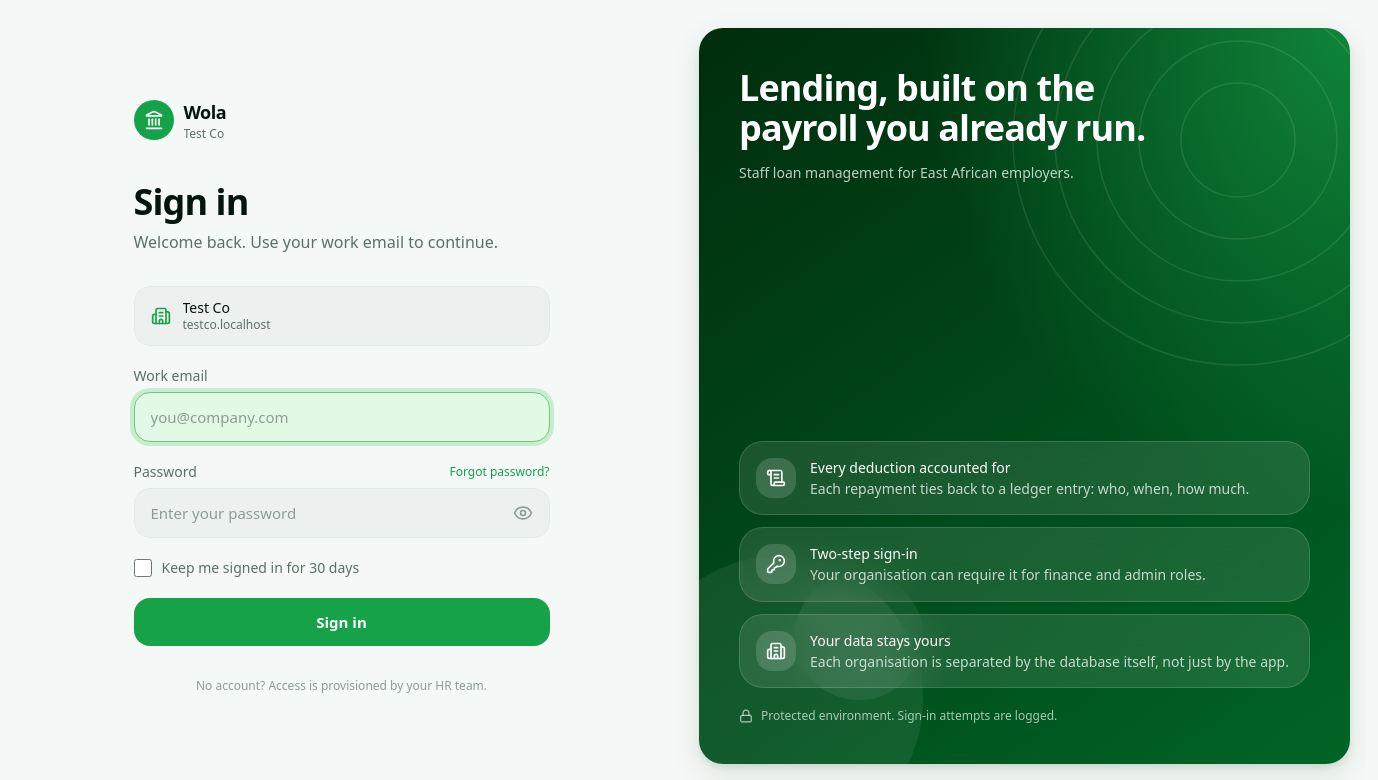
Scenario: sign-in feedback › a wrong password shows the message on the form AND pops a toast
Type "cfo@testco.io" into the field labelled "Work email" at coordinates (342, 417), box [134,393,548,441]
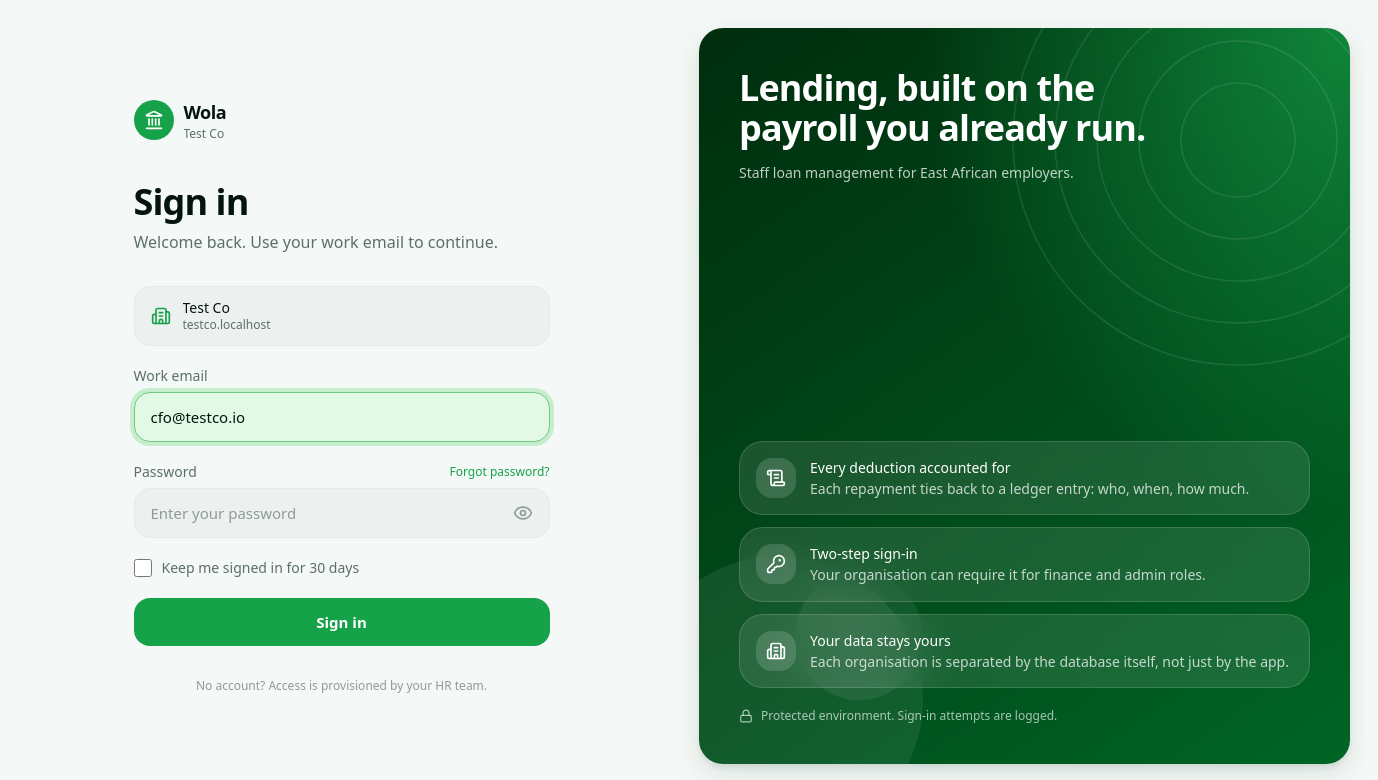
Type "secret-pass" into the password field labelled "Password" at coordinates (342, 513), box [134,489,548,537]
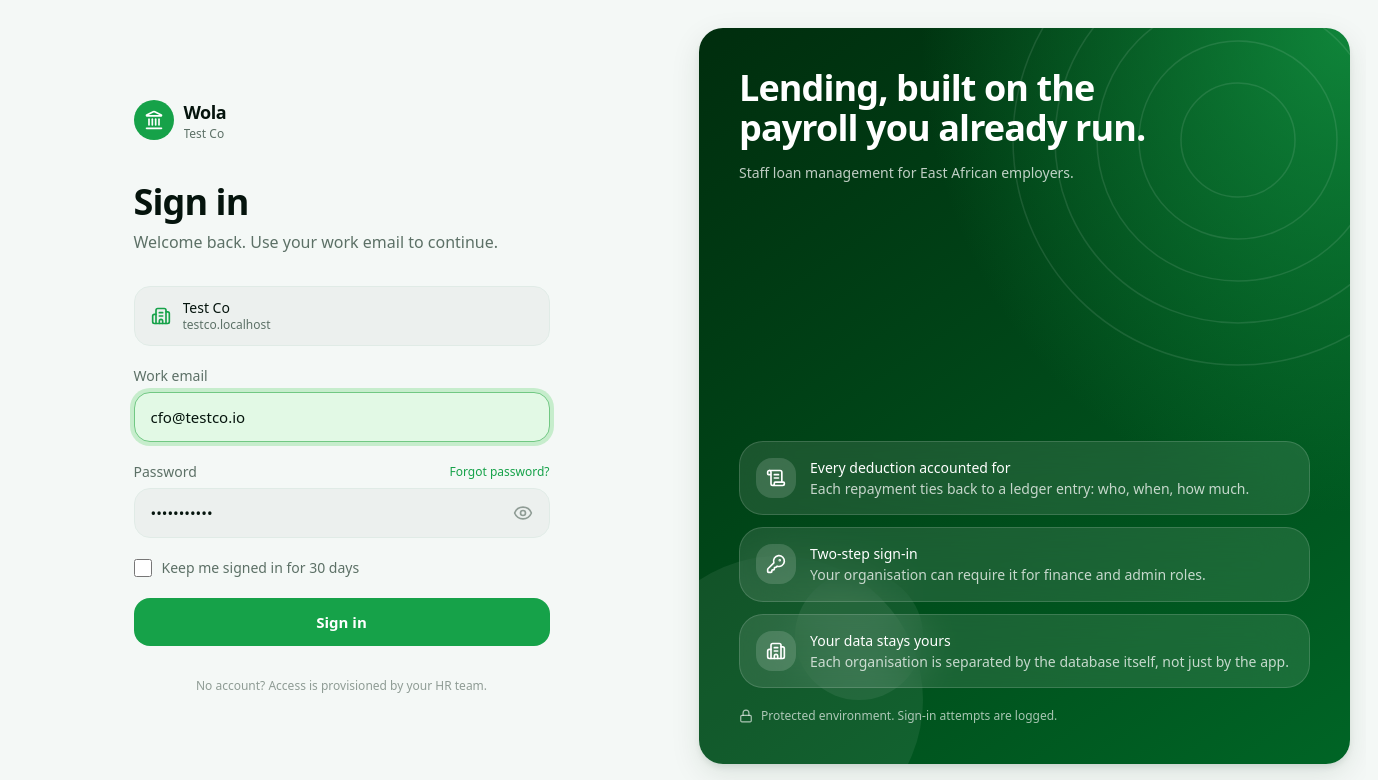
Click the button "Sign in" at coordinates (342, 622), box [134,598,550,646]
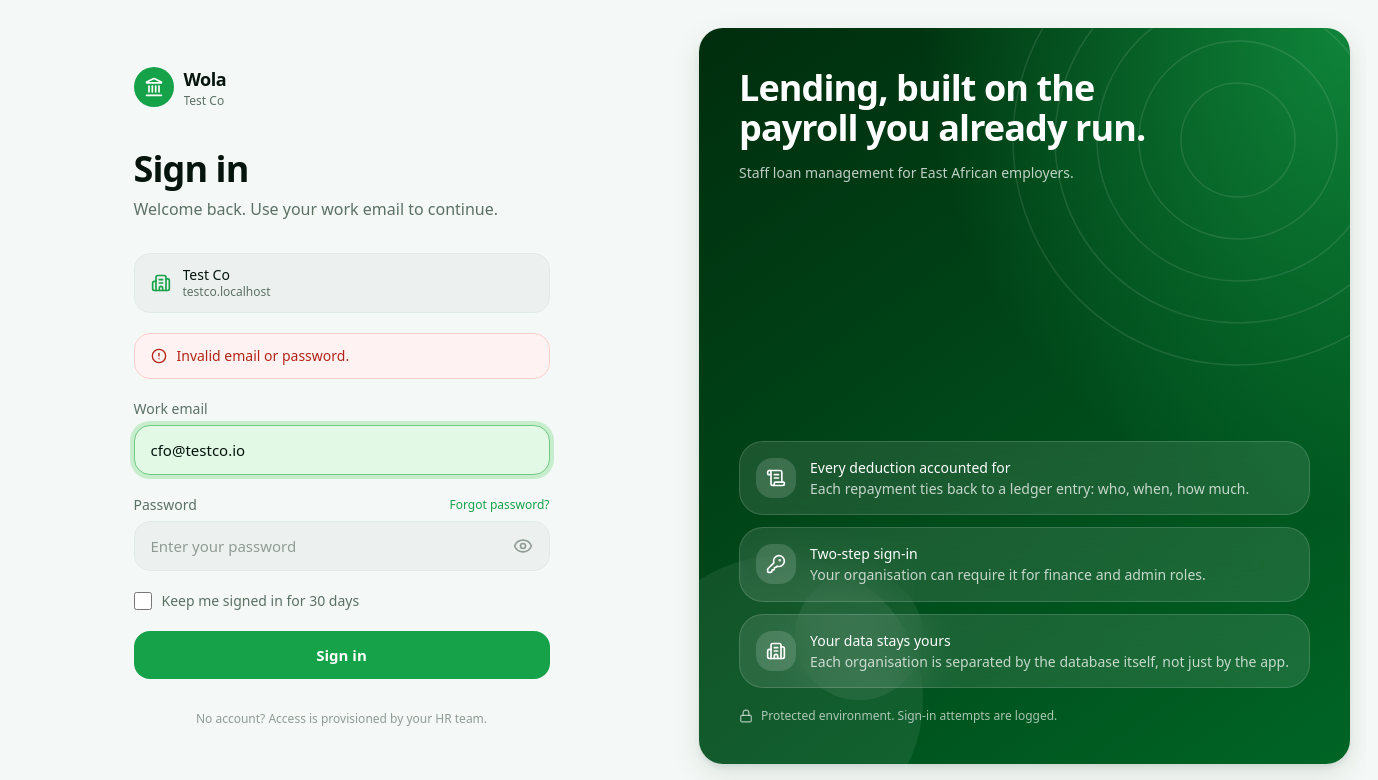
Now the message reads "Invalid email or password.", box [176,346,349,365]
